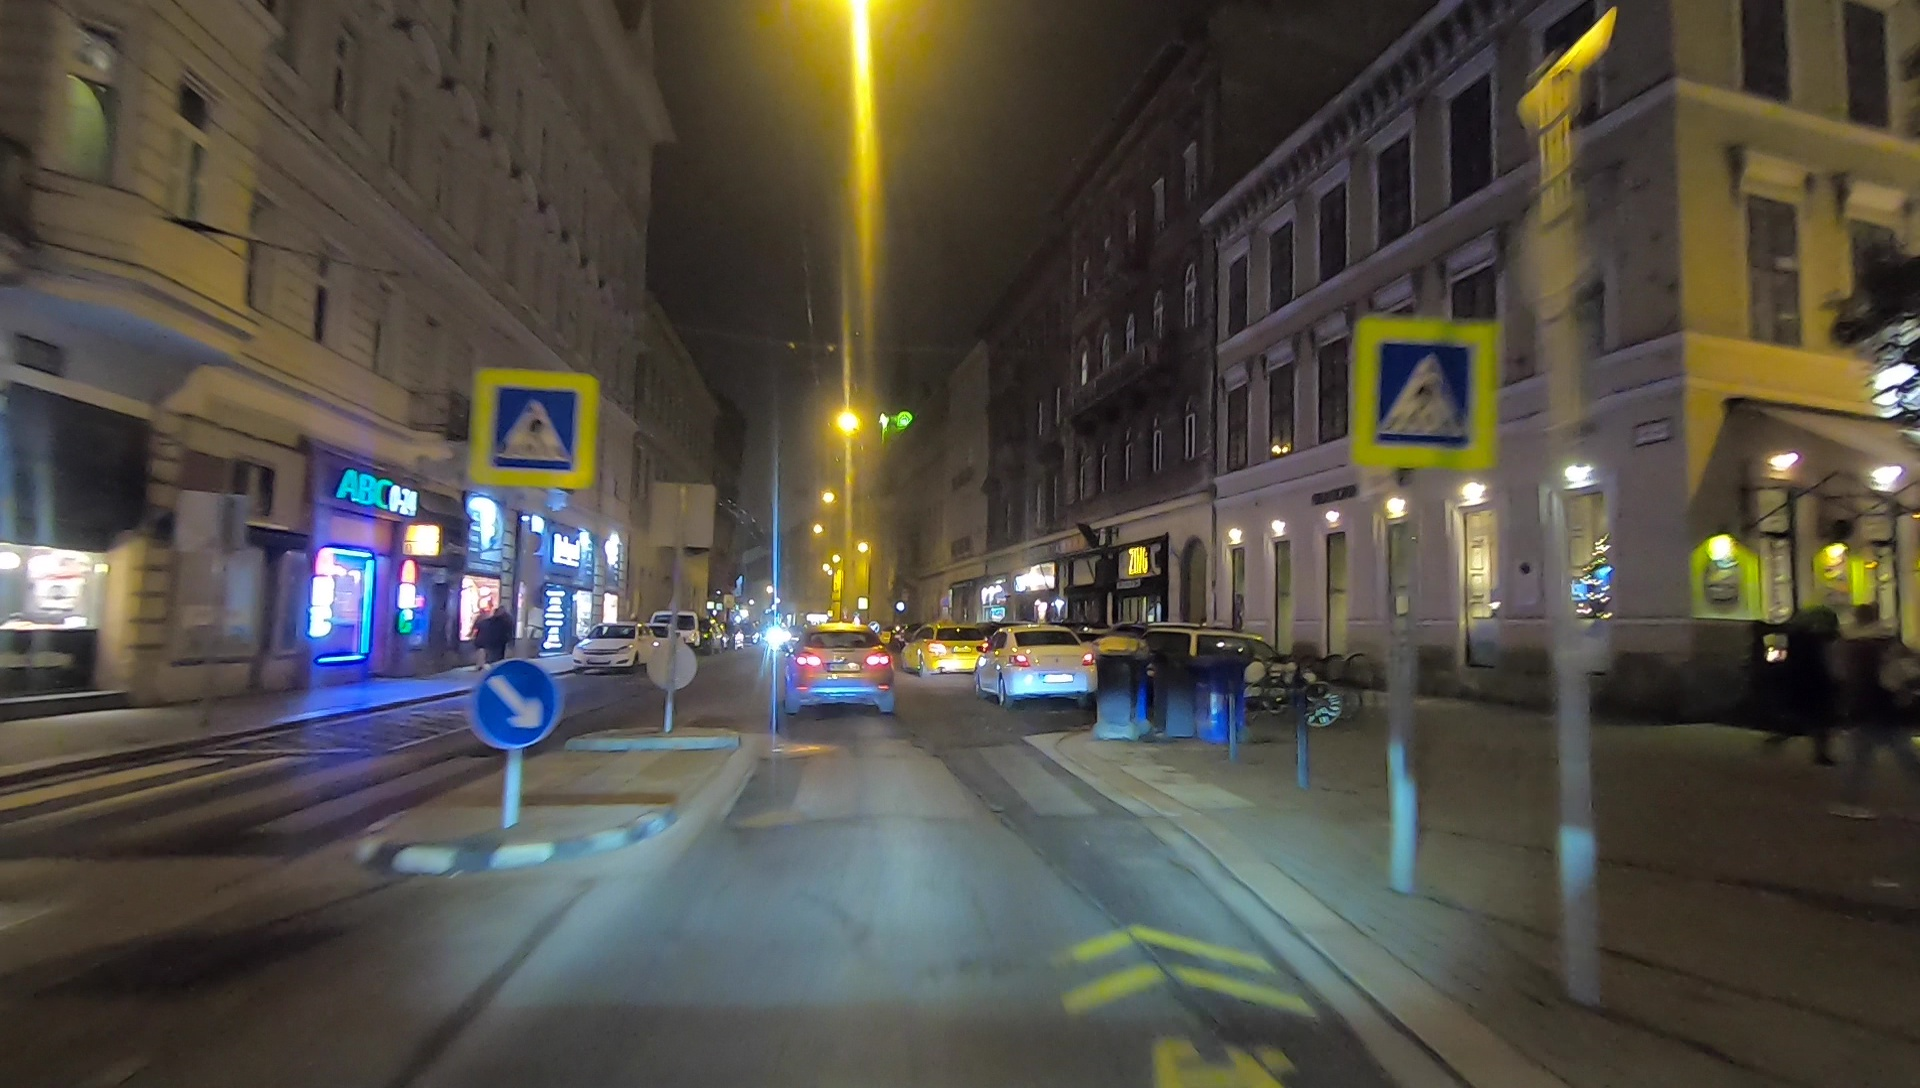person: (1836, 611, 1912, 830), (1773, 604, 1838, 769), (488, 608, 514, 674), (471, 608, 493, 667)
